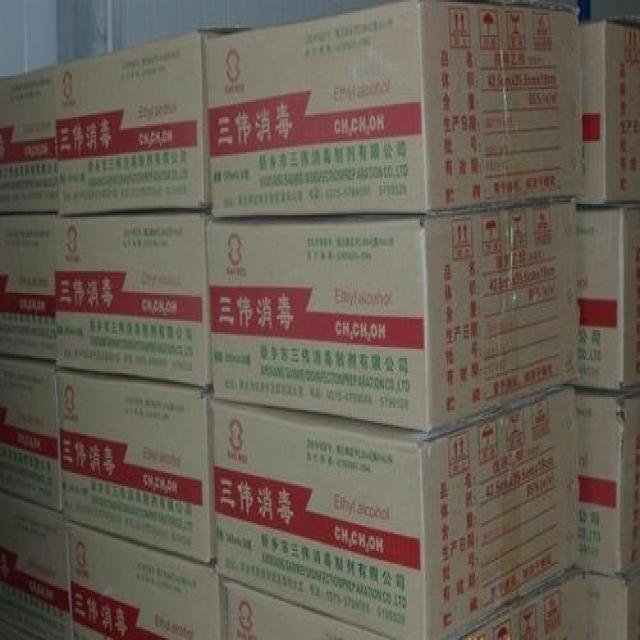box: (211, 384, 581, 640), (206, 198, 580, 432), (205, 0, 584, 217), (52, 30, 244, 215), (56, 369, 214, 564), (52, 210, 211, 390), (65, 519, 227, 640), (575, 384, 640, 575), (576, 17, 640, 206), (575, 206, 640, 391), (0, 493, 72, 640), (227, 577, 394, 640), (0, 356, 61, 514), (458, 568, 589, 640), (0, 65, 58, 213), (0, 213, 55, 362), (584, 570, 640, 640)
